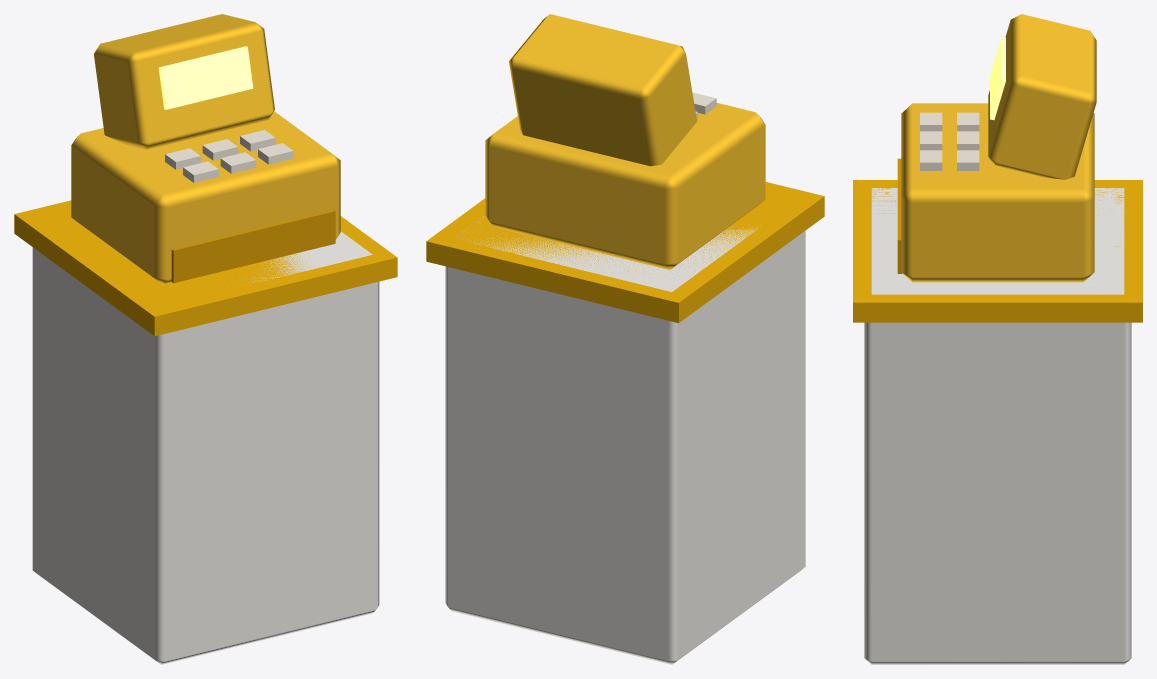
The model's file is station_special_ausstattung_1_1.glb.
3 renders of one model, left to right at view 1: azimuth 30°, elevation 25°; view 2: azimuth 150°, elevation 25°; view 3: azimuth 270°, elevation 25°, orthographic. The views are drawn at different scales.
Parts seen in each view (by area): view 1: station_special_ausstattung_1_1; view 2: station_special_ausstattung_1_1; view 3: station_special_ausstattung_1_1.
Boxes of the visible parts, bbox=[...] form: station_special_ausstattung_1_1: bbox=[14, 14, 397, 664]; station_special_ausstattung_1_1: bbox=[426, 14, 824, 664]; station_special_ausstattung_1_1: bbox=[853, 14, 1142, 664].
Bounding box in the file's own units: 0.39 × 0.842 × 0.39.
